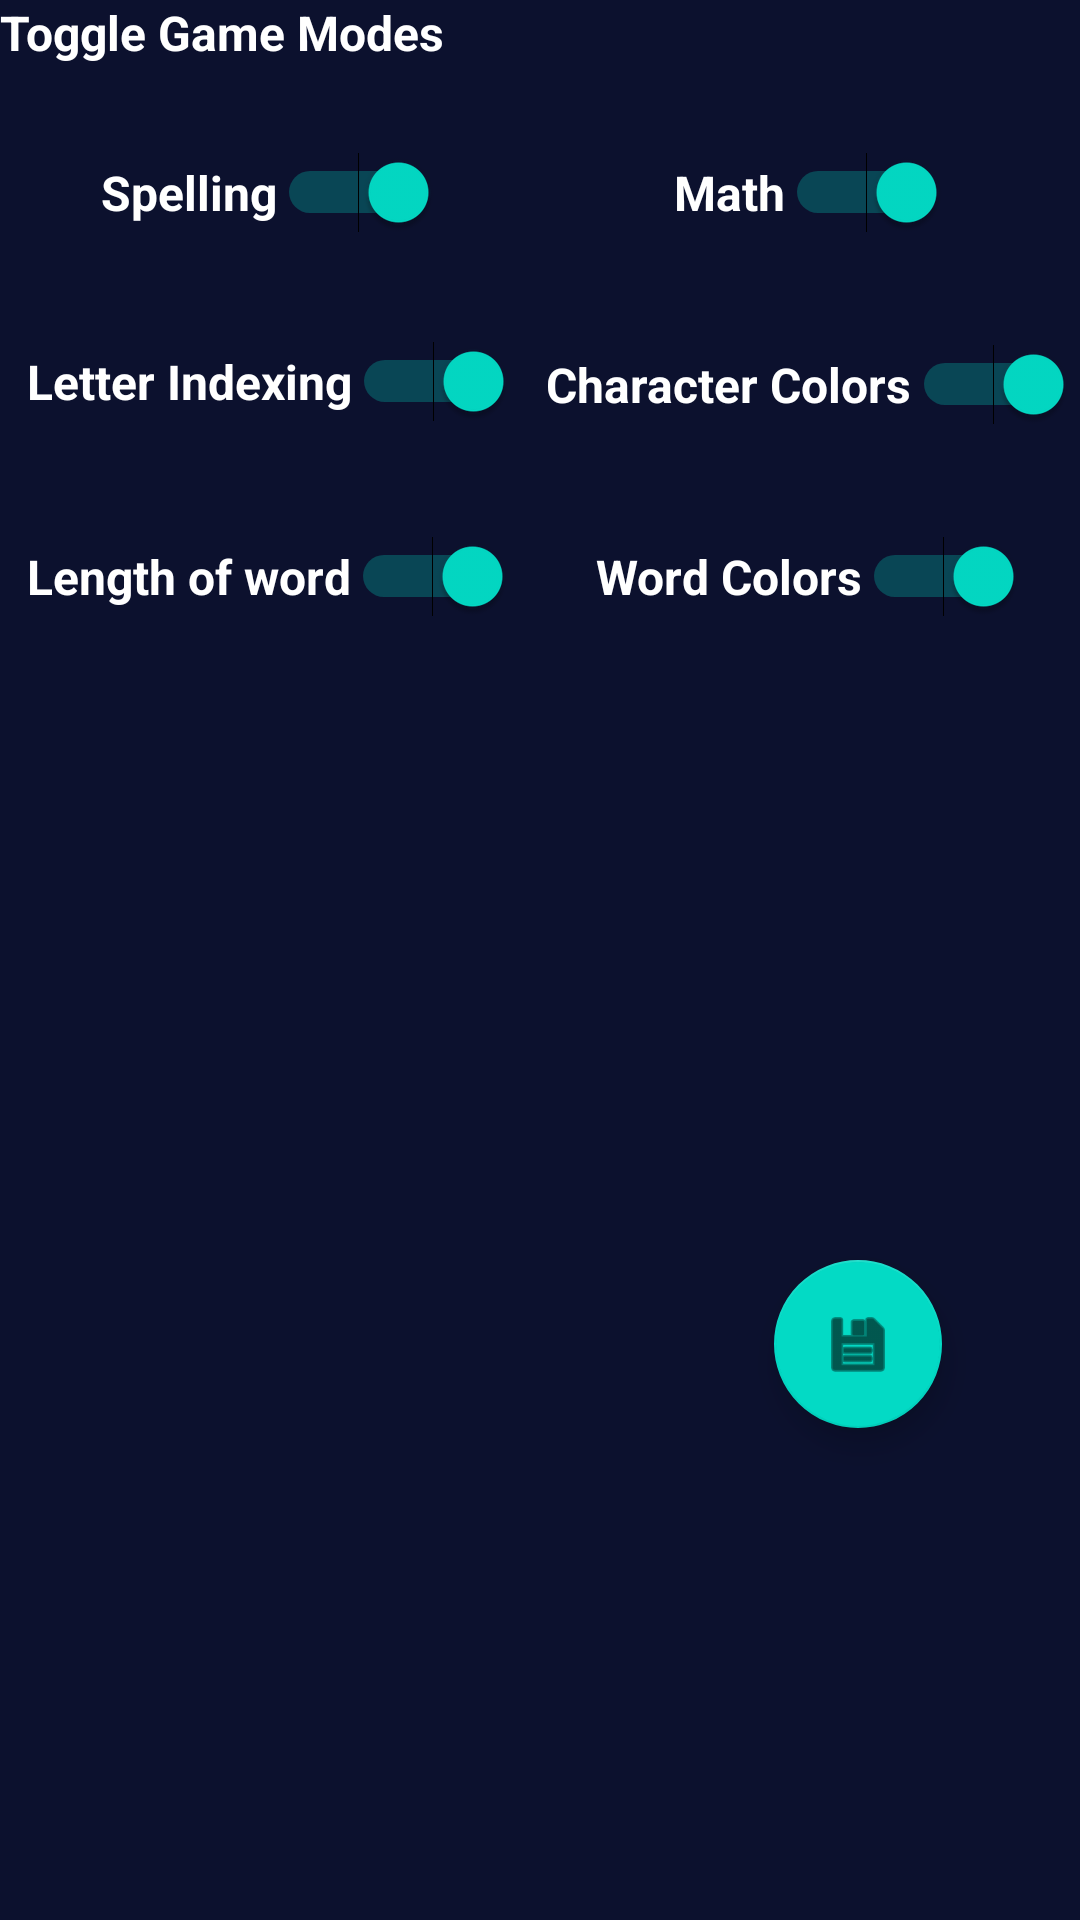

Icons on this 1080px x 1920px Android screen, each with the point to tap as (x=x, y=y):
save: (x=858, y=1344)
